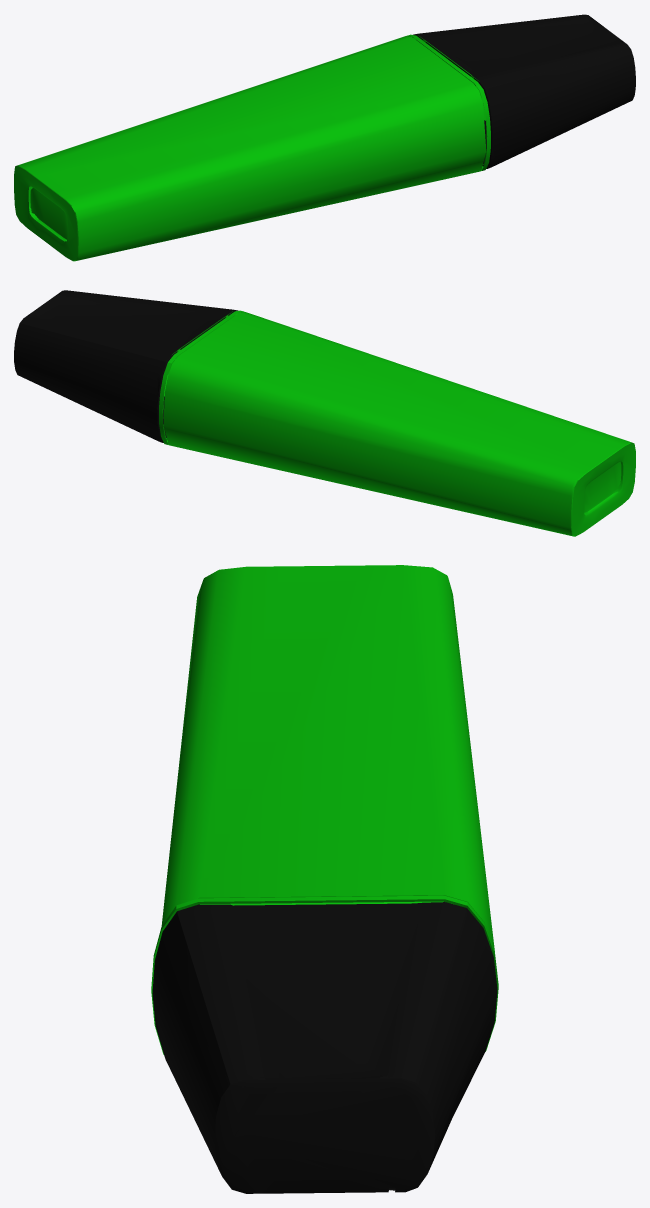
Rendered from Marker 1.fbx.
The picture shows the model from 3 angles, top to bottom: view 1: azimuth 30°, elevation 25°; view 2: azimuth 150°, elevation 25°; view 3: azimuth 270°, elevation 25°; orthographic projection. The views are drawn at different scales.
Visible parts, largest first — view 1: Marker 1; view 2: Marker 1; view 3: Marker 1.
Boxes of the visible parts, <box> form: Marker 1: <box>14,14,635,261</box>; Marker 1: <box>14,290,635,536</box>; Marker 1: <box>151,565,498,1193</box>.
Size of the model in its own units: 10.55 by 1.6 by 2.81.
